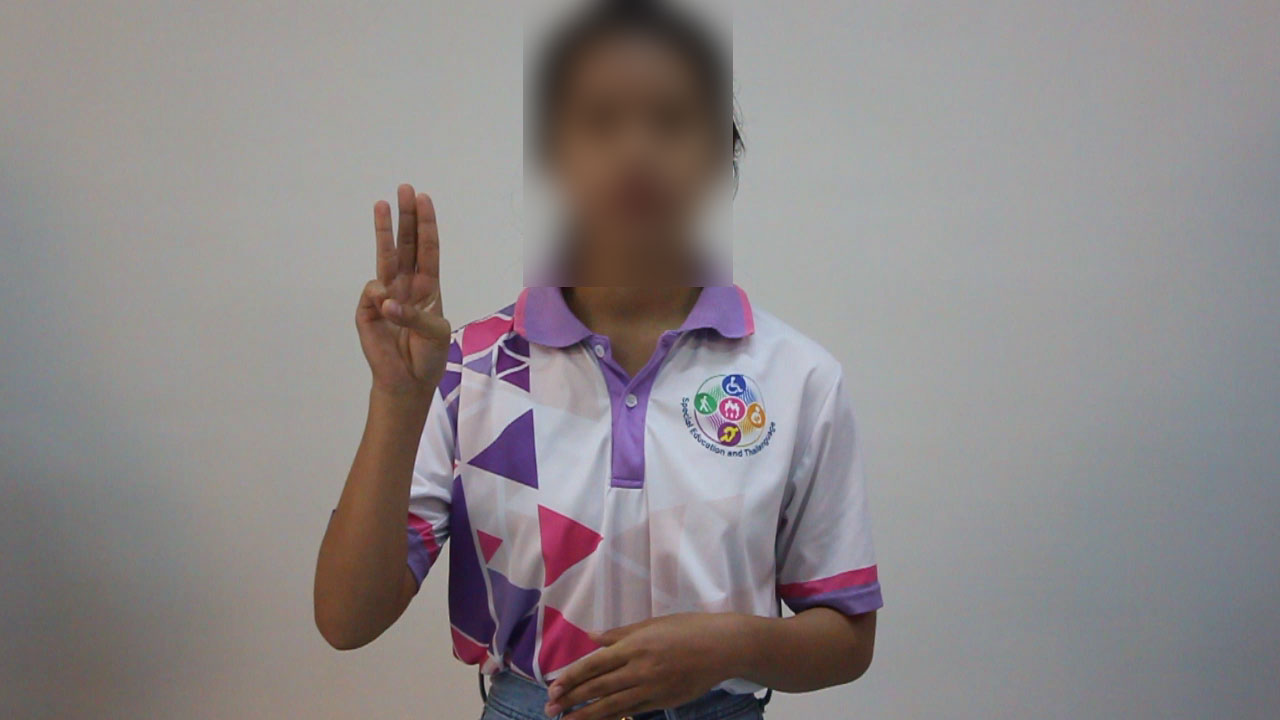wor: (345, 172, 460, 412)
